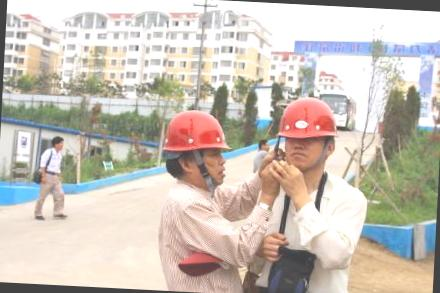helmet: (157, 110, 237, 166), (272, 97, 346, 148)
no_vest: (256, 170, 371, 293), (154, 179, 238, 293)
person: (257, 92, 373, 293), (153, 106, 256, 293)
